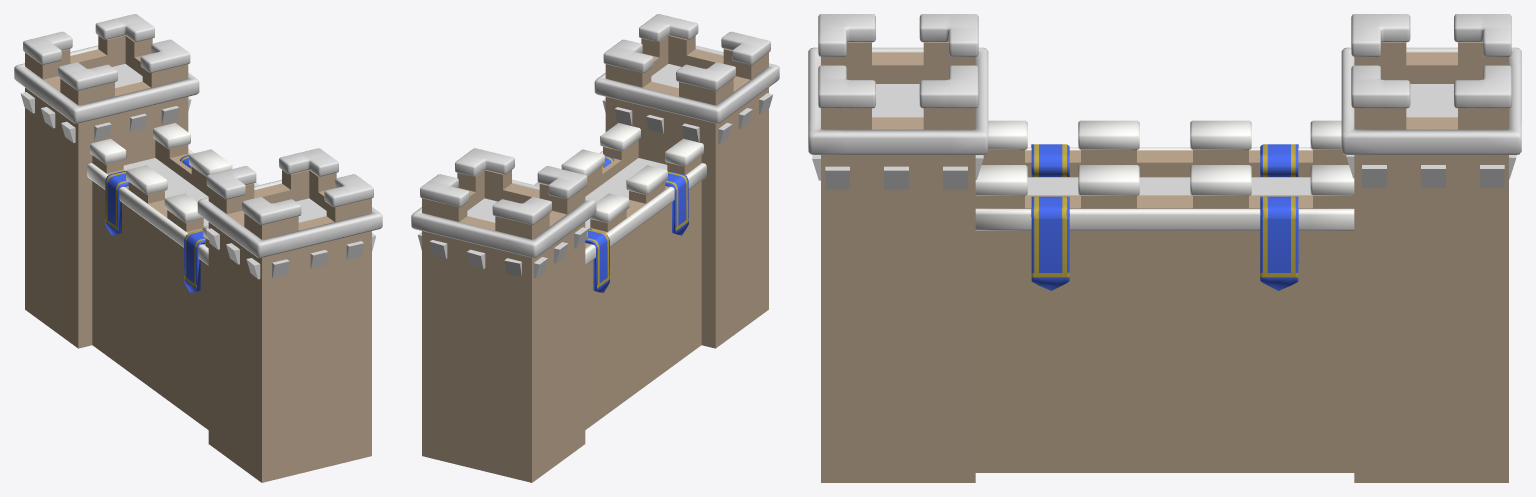
The model's file is NEW CASTLE  2fbx.fbx.
The picture shows the model from 3 angles, left to right: view 1: azimuth 30°, elevation 25°; view 2: azimuth 150°, elevation 25°; view 3: azimuth 270°, elevation 25°; orthographic projection. The views are drawn at different scales.
Visible parts, largest first — view 1: Cube, BAYDAK; view 2: Cube, BAYDAK; view 3: Cube, BAYDAK.
Part boxes in pixels (left/top/right/bottom): Cube: left=14, top=14, right=382, bottom=482; BAYDAK: left=105, top=155, right=205, bottom=292; Cube: left=411, top=14, right=779, bottom=482; BAYDAK: left=585, top=155, right=688, bottom=292; Cube: left=808, top=14, right=1521, bottom=482; BAYDAK: left=1031, top=144, right=1298, bottom=290.
Size of the model in its own units: 9.76 by 20.03 by 33.14.
